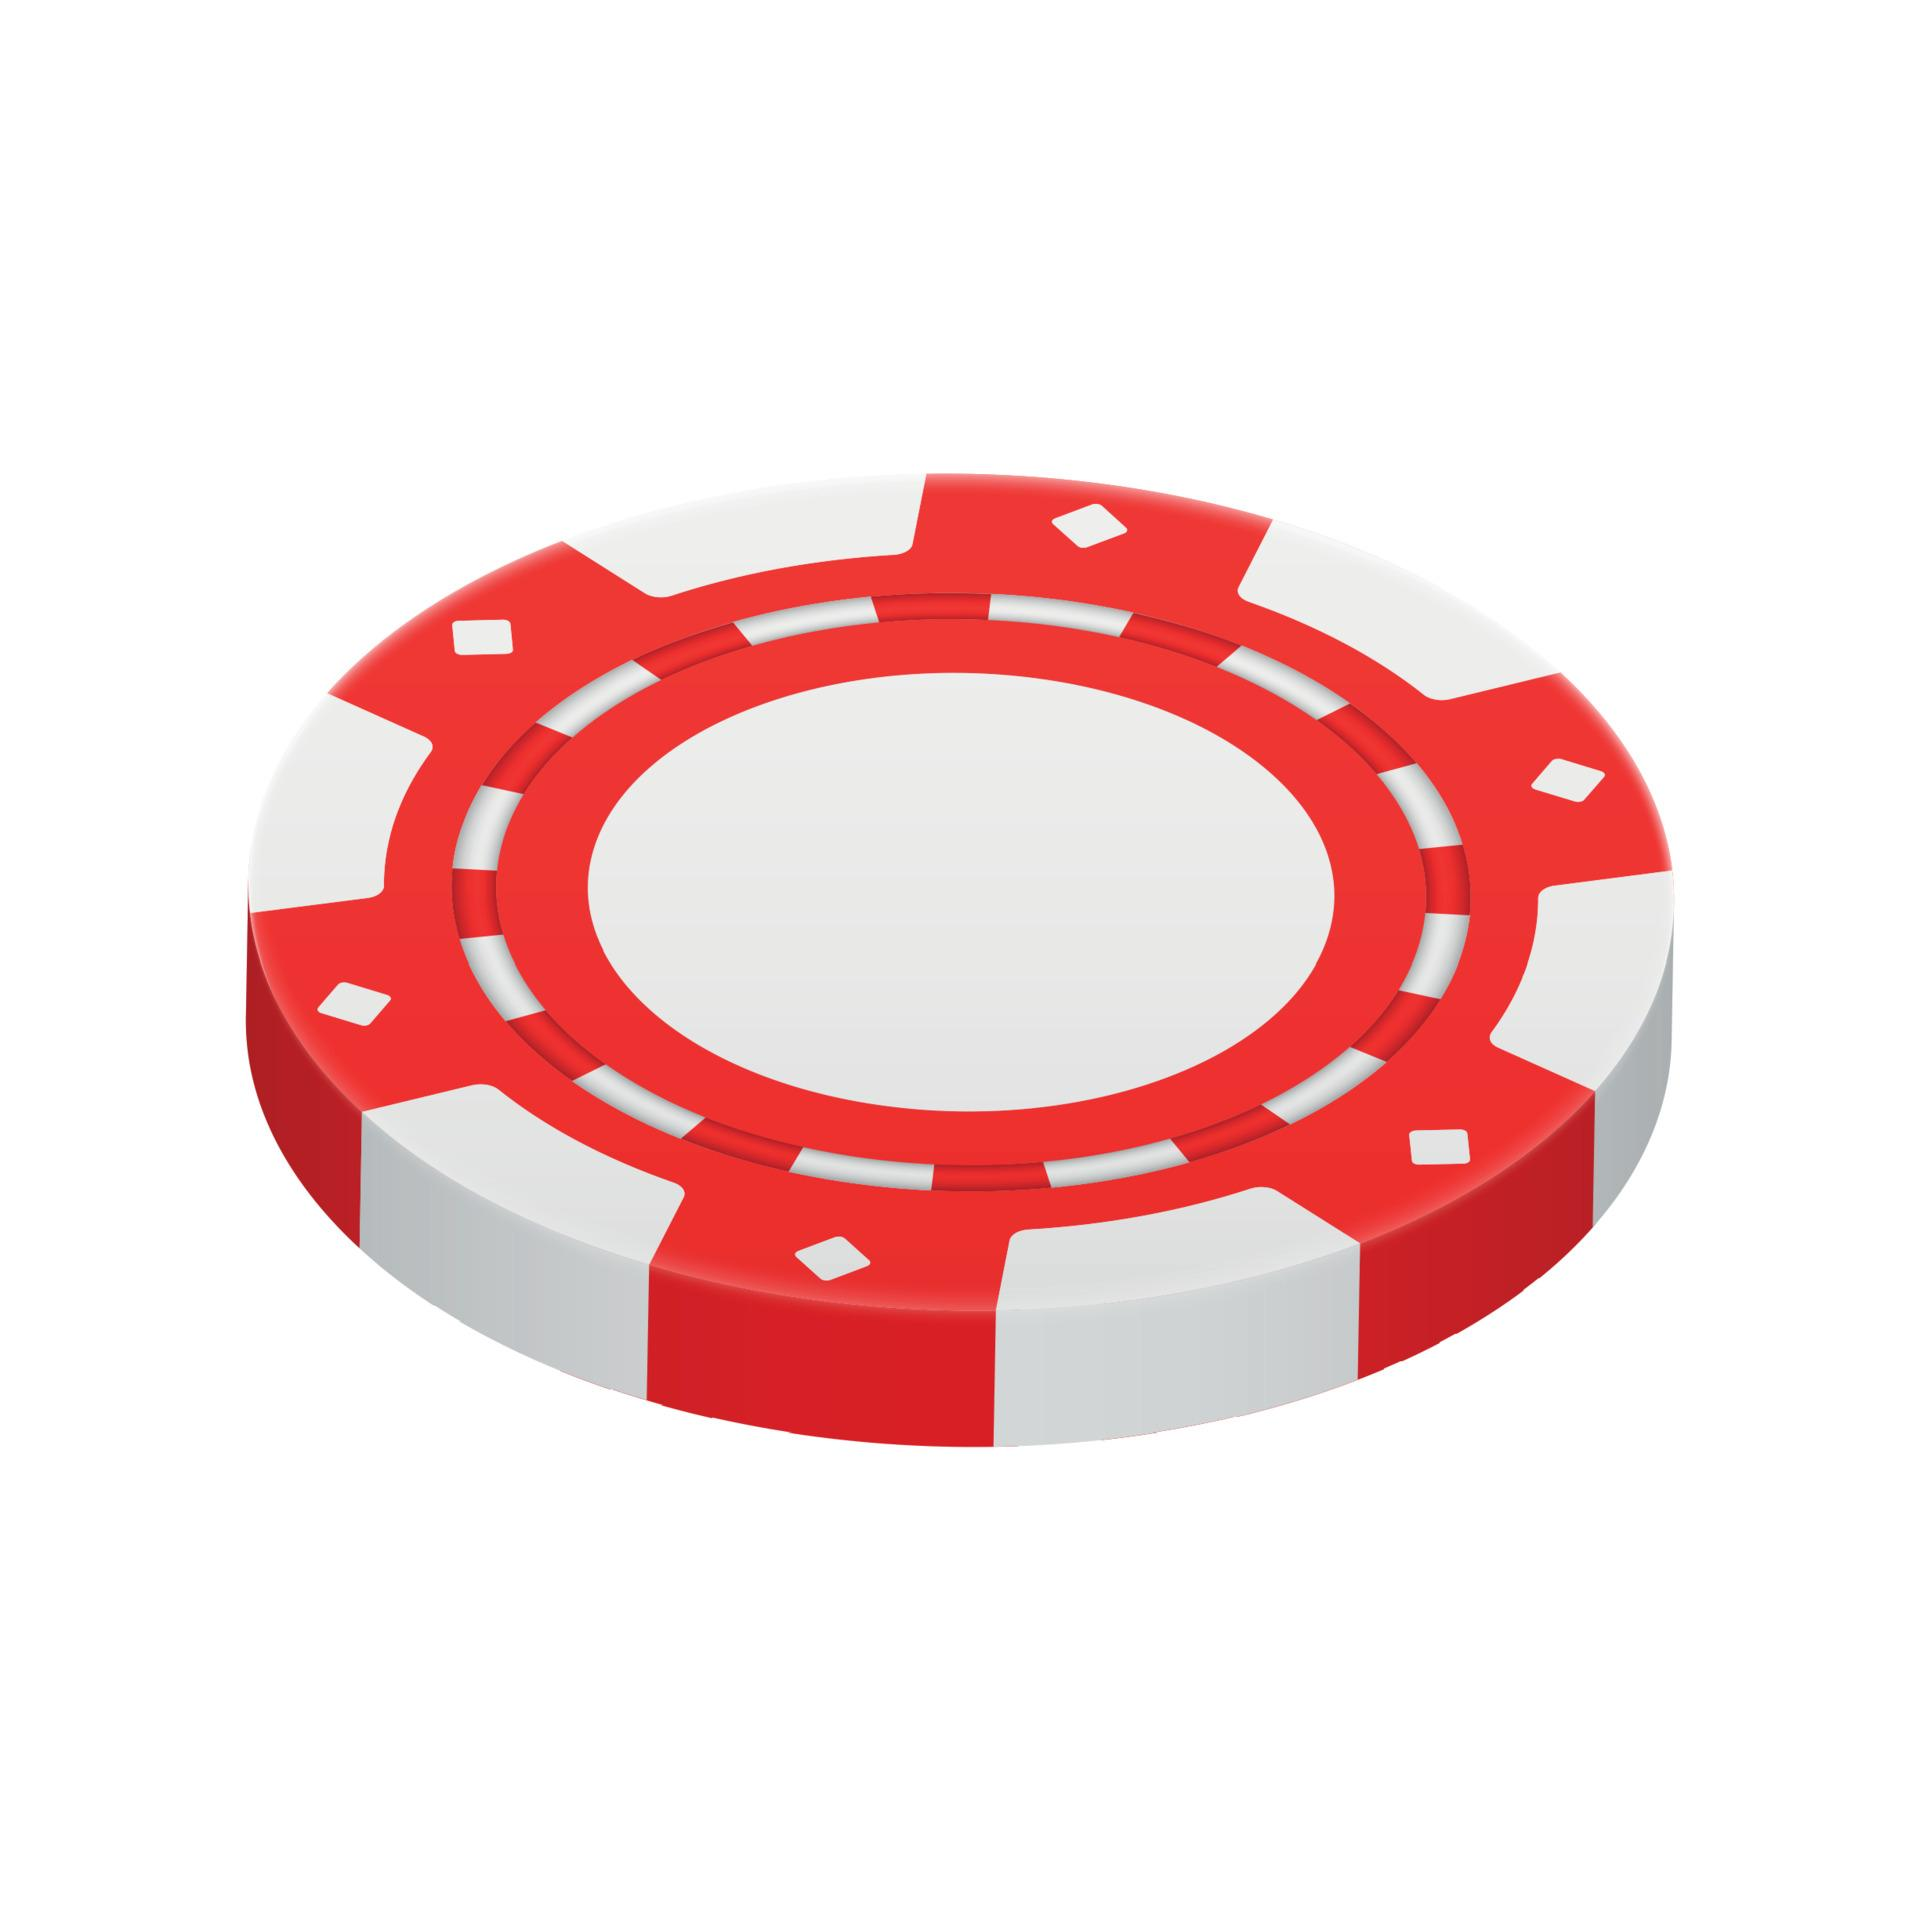chip-red: (248, 476, 1672, 1444)
